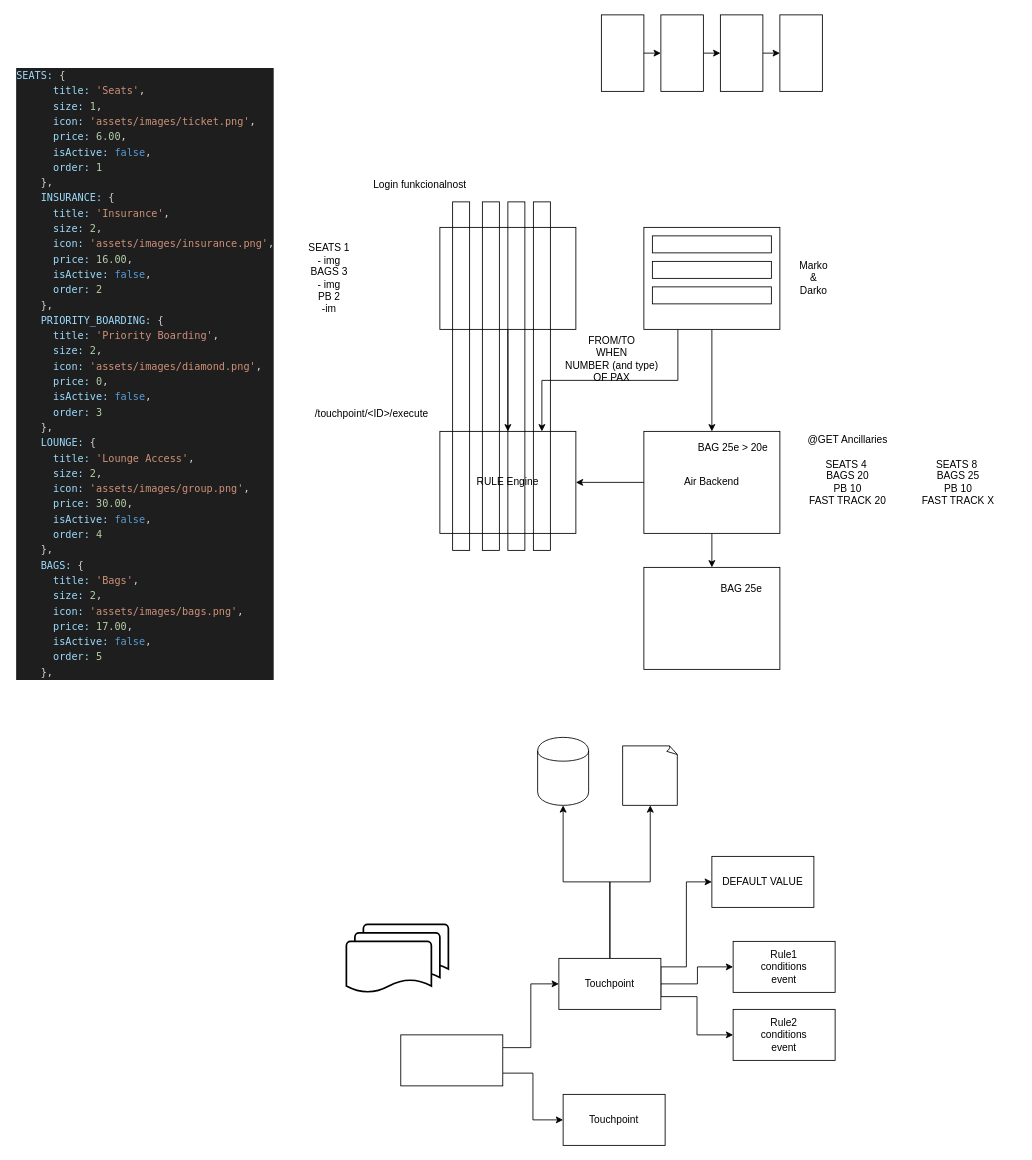
This 1032x1160 diagram has some shape labels left out. The box of each missing label's shape, as (x1, y1, x2, y2) in pixels:
PSS: (643, 567, 780, 669)
ref: (537, 737, 589, 805)
Rule Engine Admin: (439, 227, 576, 329)
User: (400, 1034, 503, 1086)
